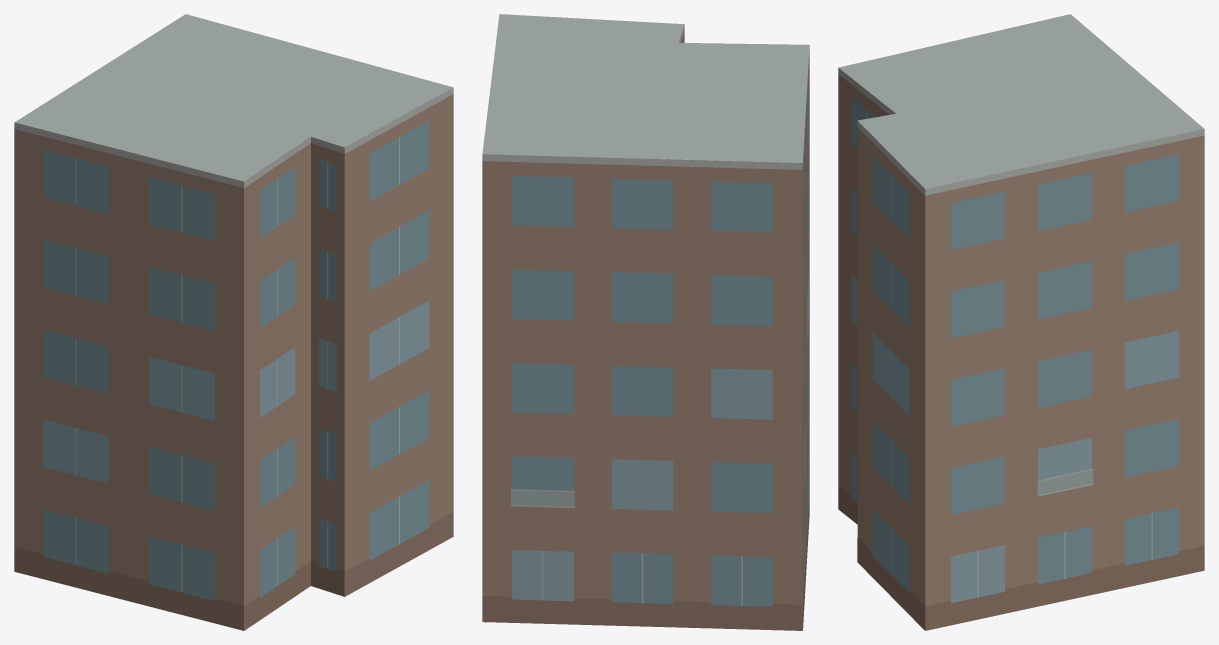
File: survey-upis-32979434.glb
3 renders of one model, left to right at view 1: azimuth 30°, elevation 25°; view 2: azimuth 150°, elevation 25°; view 3: azimuth 270°, elevation 25°, orthographic. The views are drawn at different scales.
Parts seen in each view (by area): view 1: survey-upis-32979434.tmp; view 2: survey-upis-32979434.tmp; view 3: survey-upis-32979434.tmp.
Boxes of the visible parts, <box> form: survey-upis-32979434.tmp: <box>14,14,453,630</box>; survey-upis-32979434.tmp: <box>482,14,809,630</box>; survey-upis-32979434.tmp: <box>838,14,1204,630</box>.
Size of the model in its own units: 14.2 by 16.68 by 12.55.
